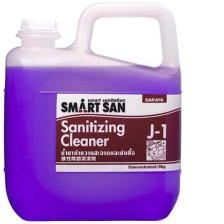cleaning_solution: (1, 0, 184, 223)
